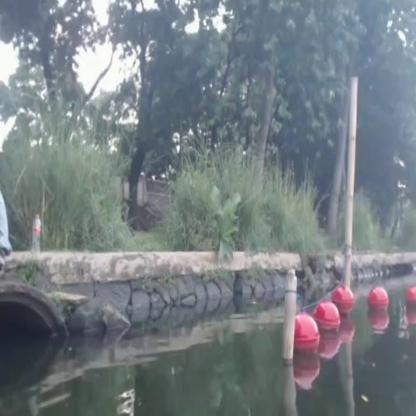red_buoy: (297, 312, 318, 358), (368, 288, 388, 316), (321, 303, 337, 335), (339, 288, 353, 318)
